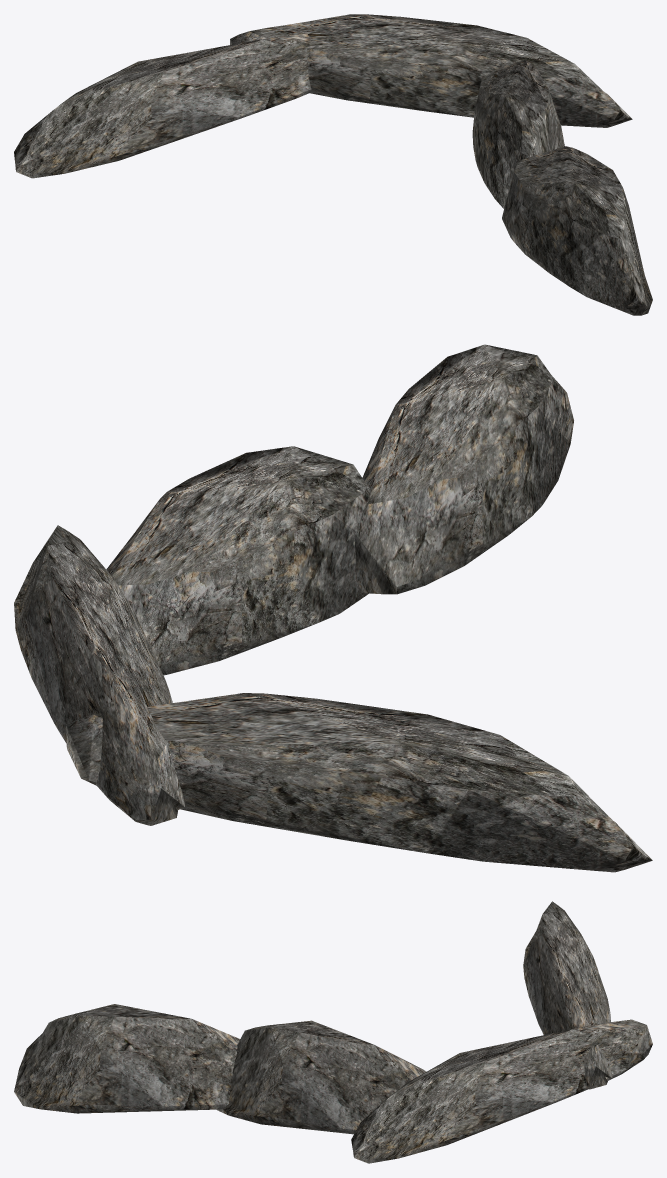
The model's file is rocks.fbx.
The picture shows the model from 3 angles, top to bottom: view 1: azimuth 30°, elevation 25°; view 2: azimuth 150°, elevation 25°; view 3: azimuth 270°, elevation 25°; orthographic projection. The views are drawn at different scales.
Visible parts, largest first — view 1: Sphere__2_; view 2: Sphere__2_; view 3: Sphere__2_.
Boxes of the visible parts, left/top/right/bottom form: Sphere__2_: left=14, top=14, right=652, bottom=315; Sphere__2_: left=14, top=344, right=652, bottom=872; Sphere__2_: left=14, top=901, right=652, bottom=1163.
Bounding box in the file's own units: 1650 × 323 × 1909.
Materials: 1 (1 with a texture image).
